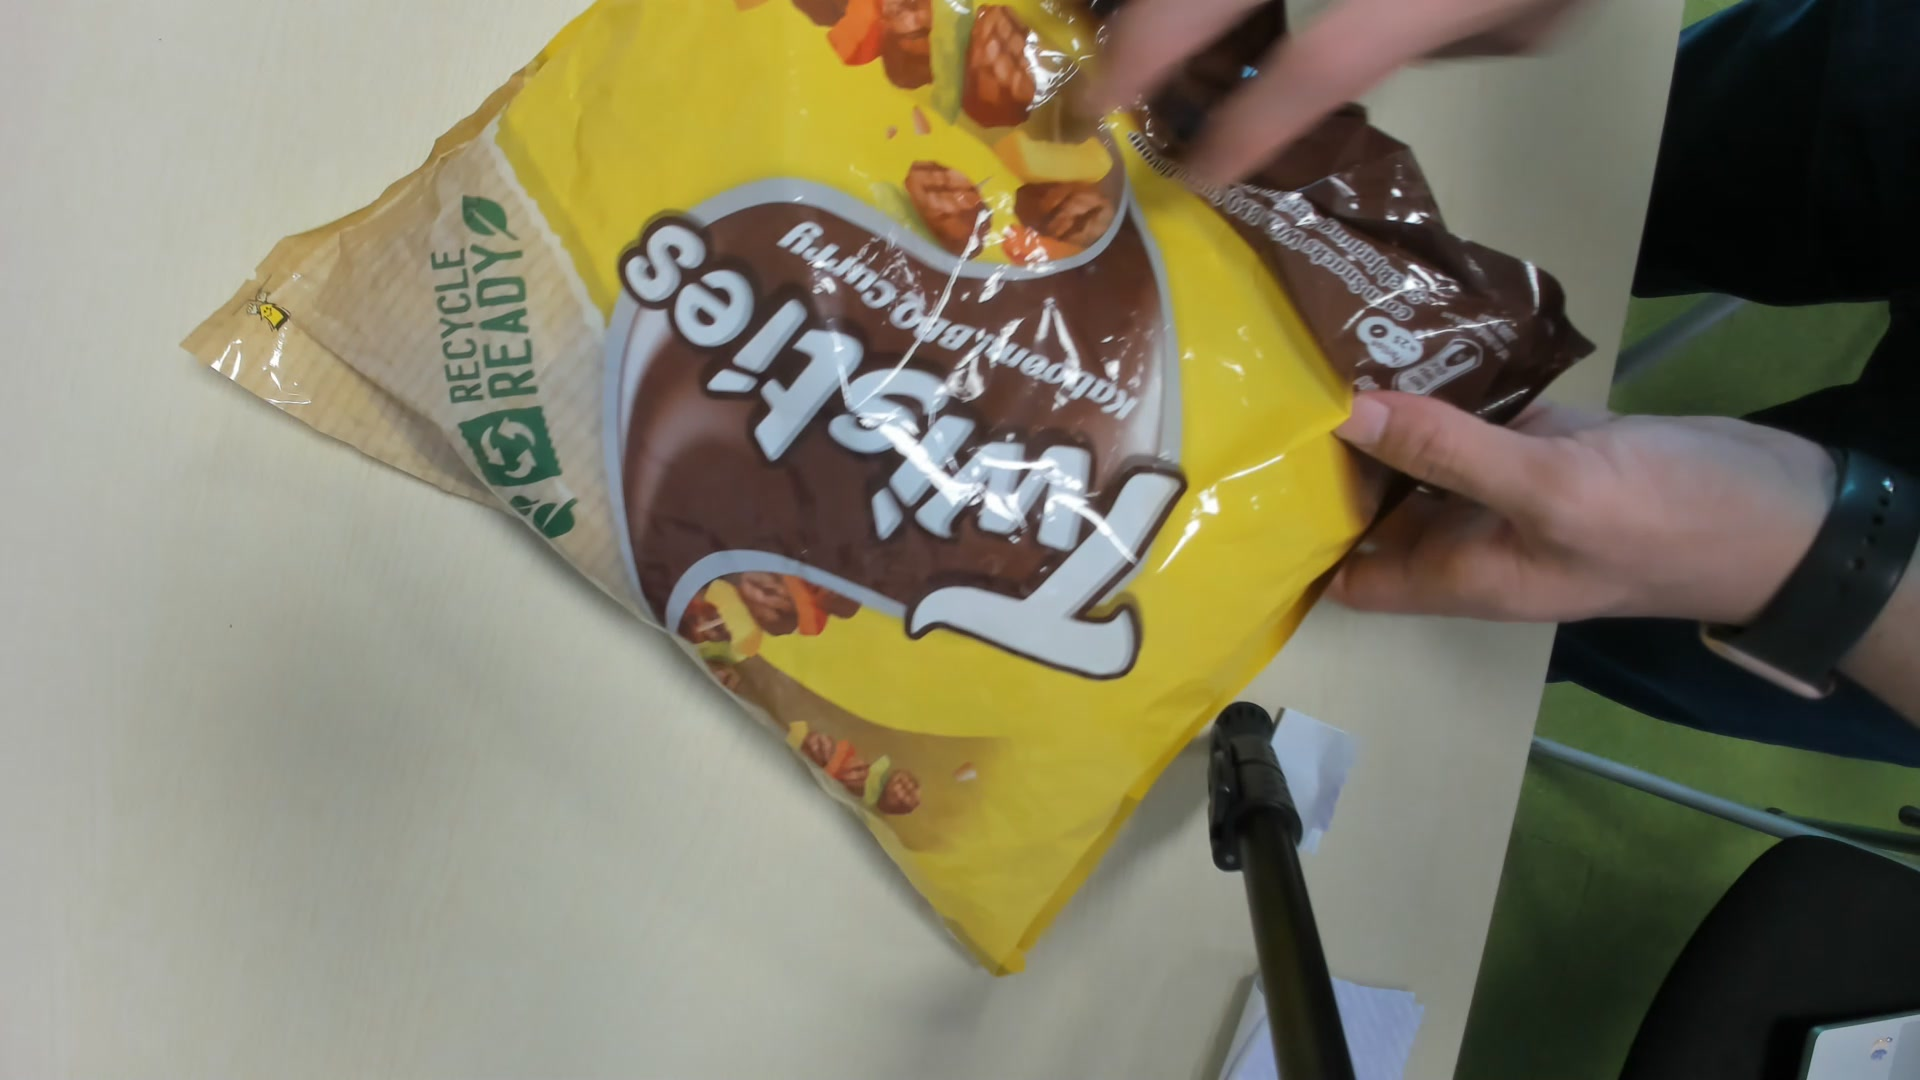PotatoChipsKeropok_0-99g_Halal_NonHealthy: (227, 9, 1580, 967)
